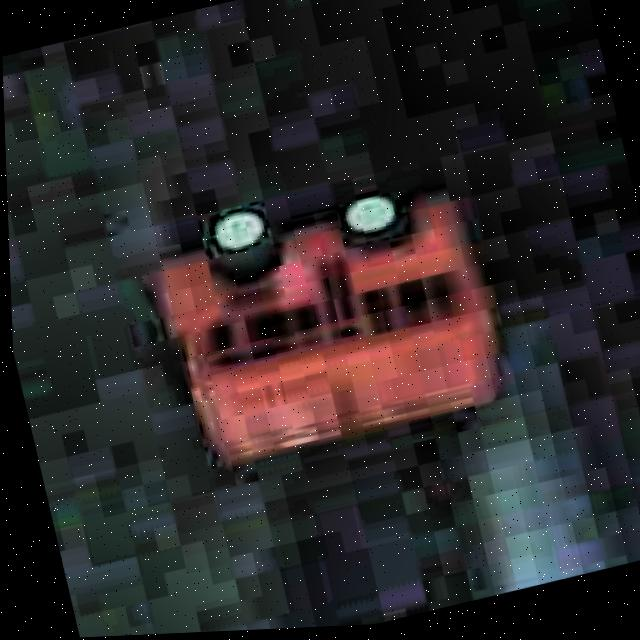bus: (129, 144, 525, 487)
